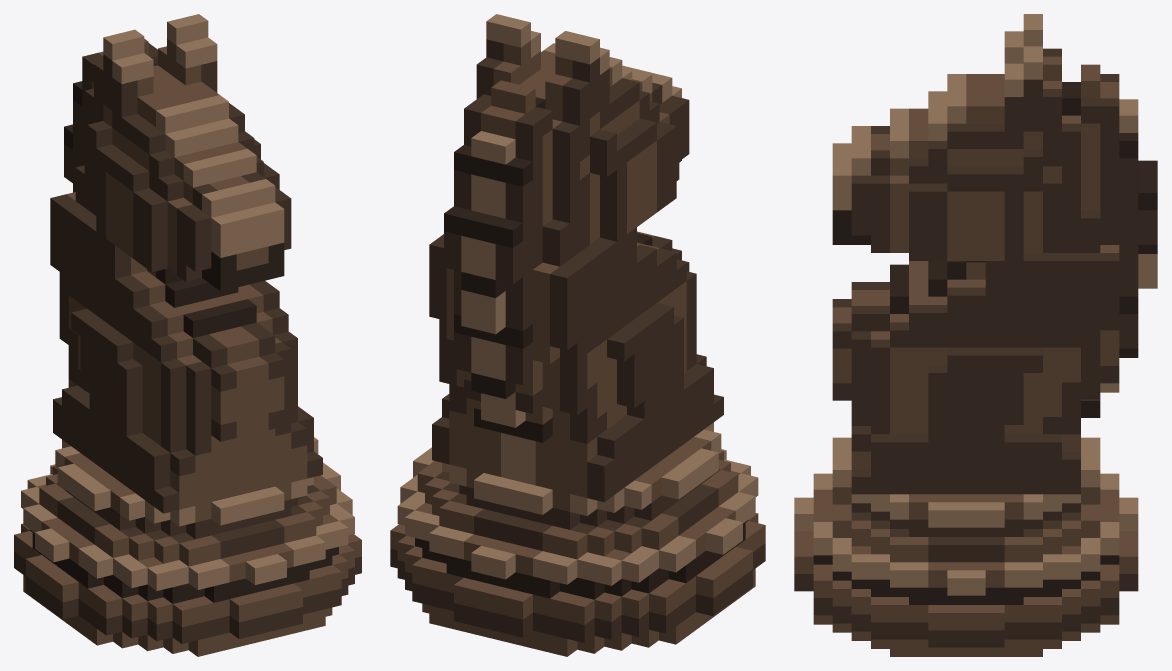
The model's file is knight_black.obj.
3 renders of one model, left to right at view 1: azimuth 30°, elevation 25°; view 2: azimuth 150°, elevation 25°; view 3: azimuth 270°, elevation 25°, orthographic. The views are drawn at different scales.
Visible parts, largest first — view 1: knight_black; view 2: knight_black; view 3: knight_black.
Boxes of the visible parts, x1,y1,x2,y2 form: knight_black: [14, 14, 361, 656]; knight_black: [390, 14, 765, 656]; knight_black: [794, 14, 1157, 656].
Bounding box in the file's own units: 0.378 × 0.672 × 0.399.
1 material, 1 textured.
